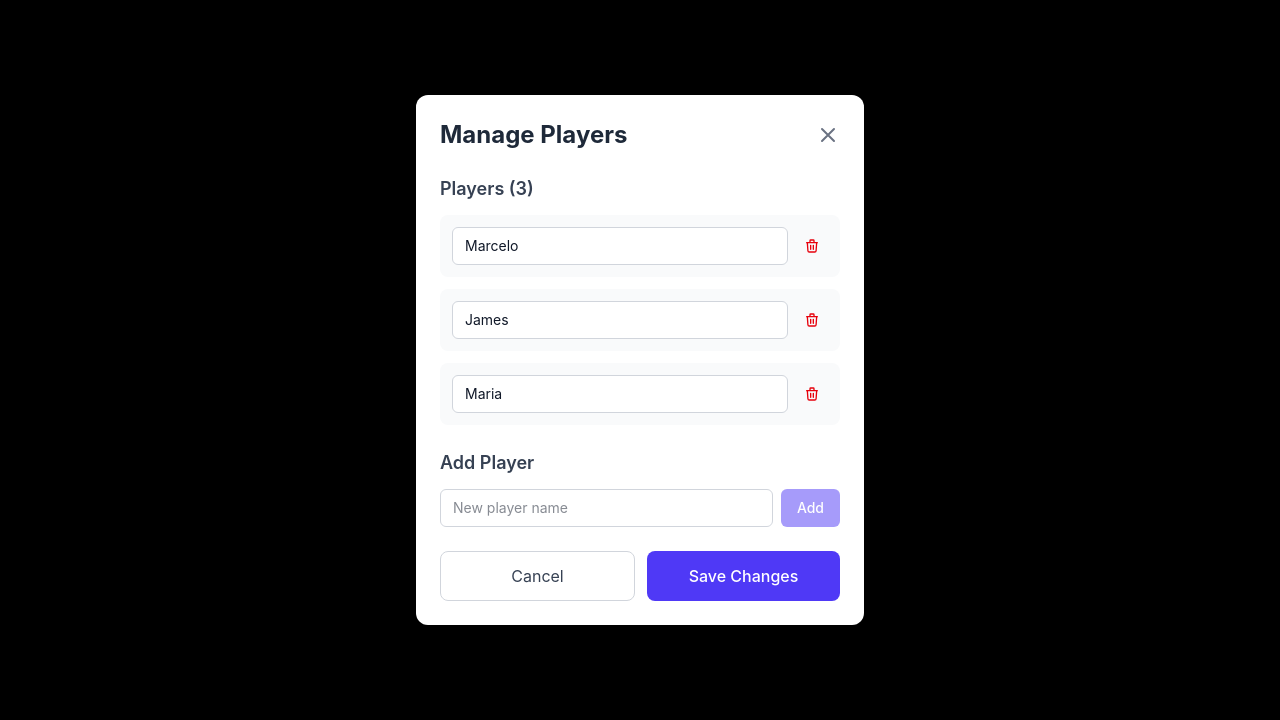
Test case: PlayerManagerModal › confirms the removal of a player with records
Click the 1st button titled "Remove player".
click(812, 246)  # box [796,230,828,262]
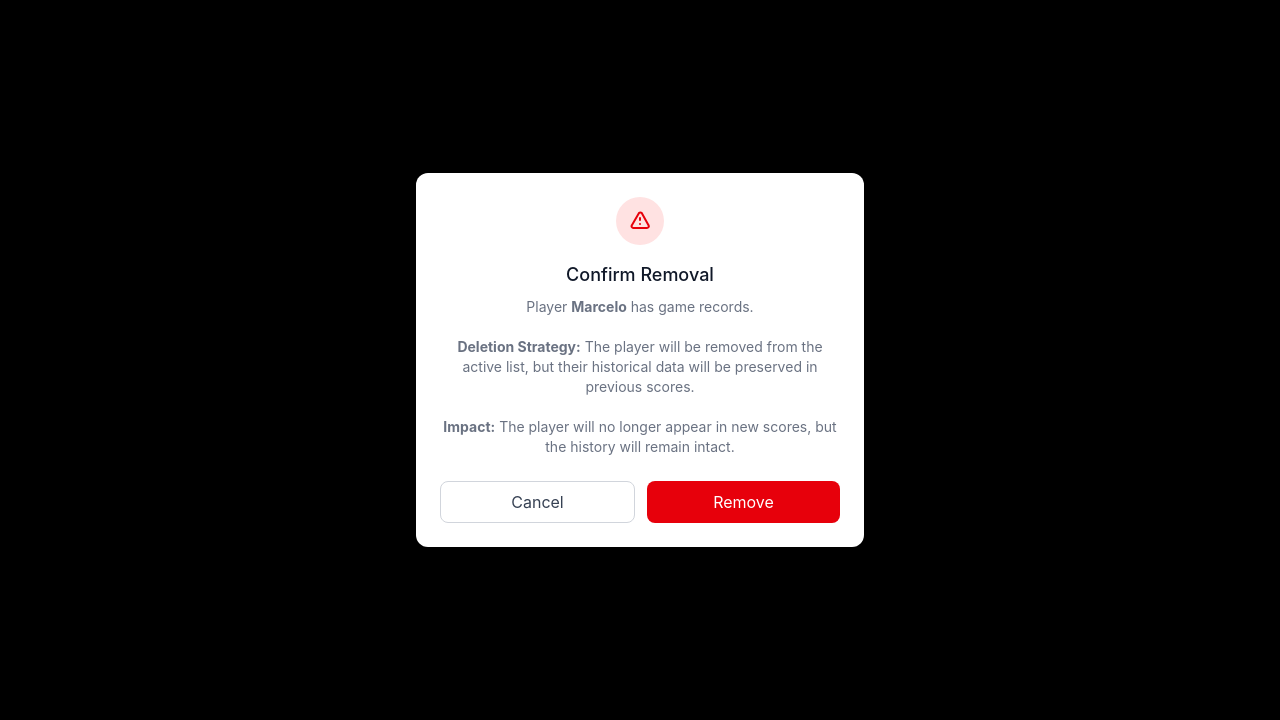
Expected: the heading "Confirm Removal" is shown, [566,264,714,285]
Click the button "Remove".
click(744, 502)  # box [647,481,840,523]
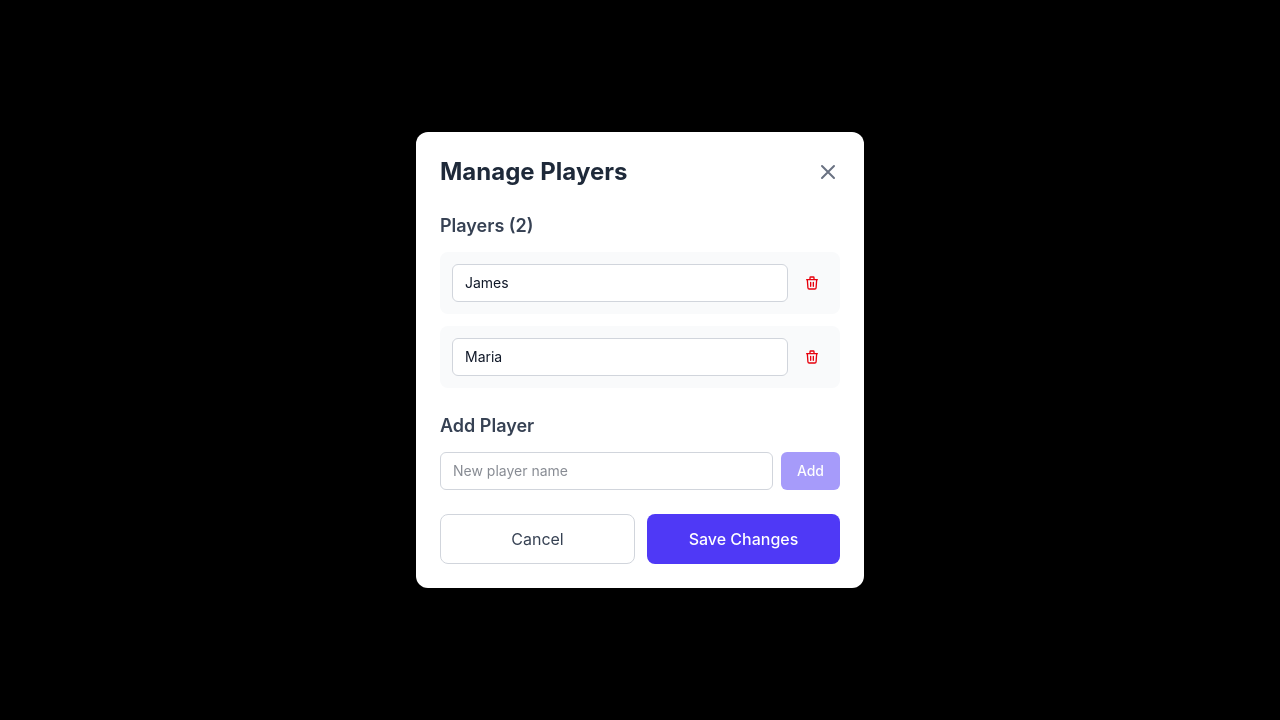
Expected: the heading "Confirm Removal" is gone
Expected: the text showing "Marcelo" is gone
